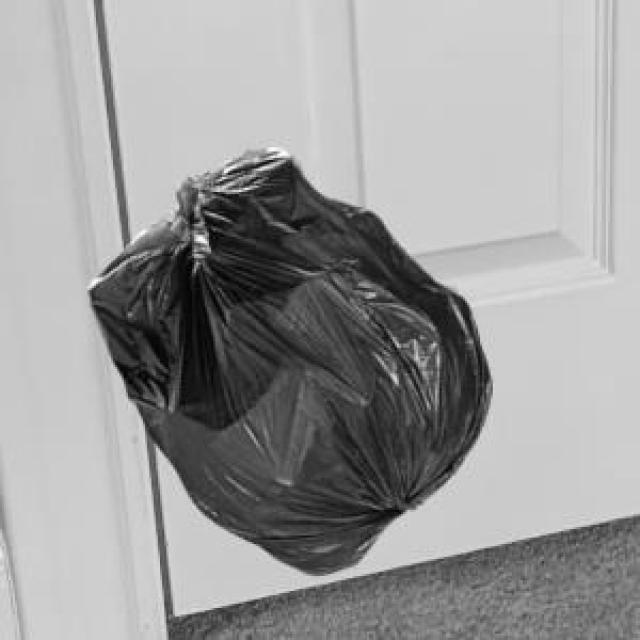miscellaneous trash: (85, 145, 486, 572)
